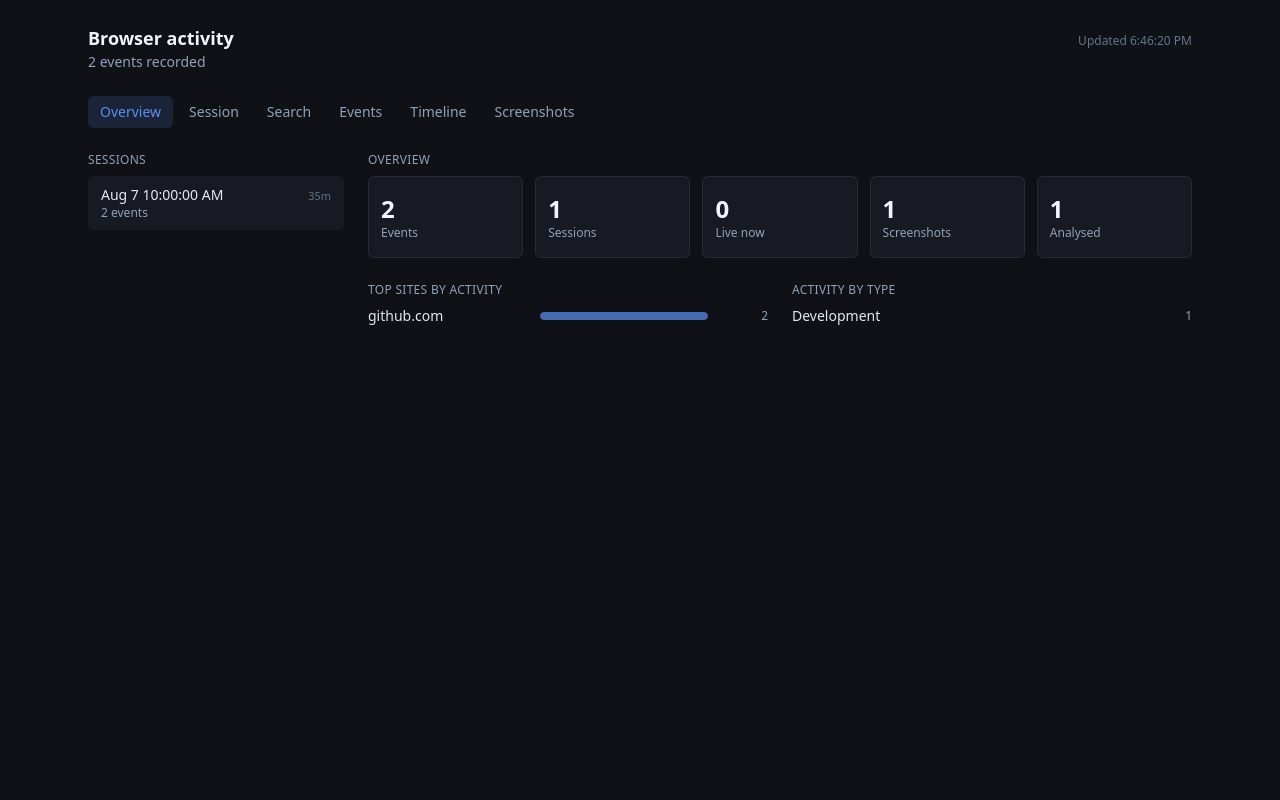
Test: view switching › clears the previous results when the query is emptied
Expected: the heading "Top sites by activity" is shown, [368,281,502,298]
Step 1. Click the button "Search" → (289, 112), box [255,96,323,128]
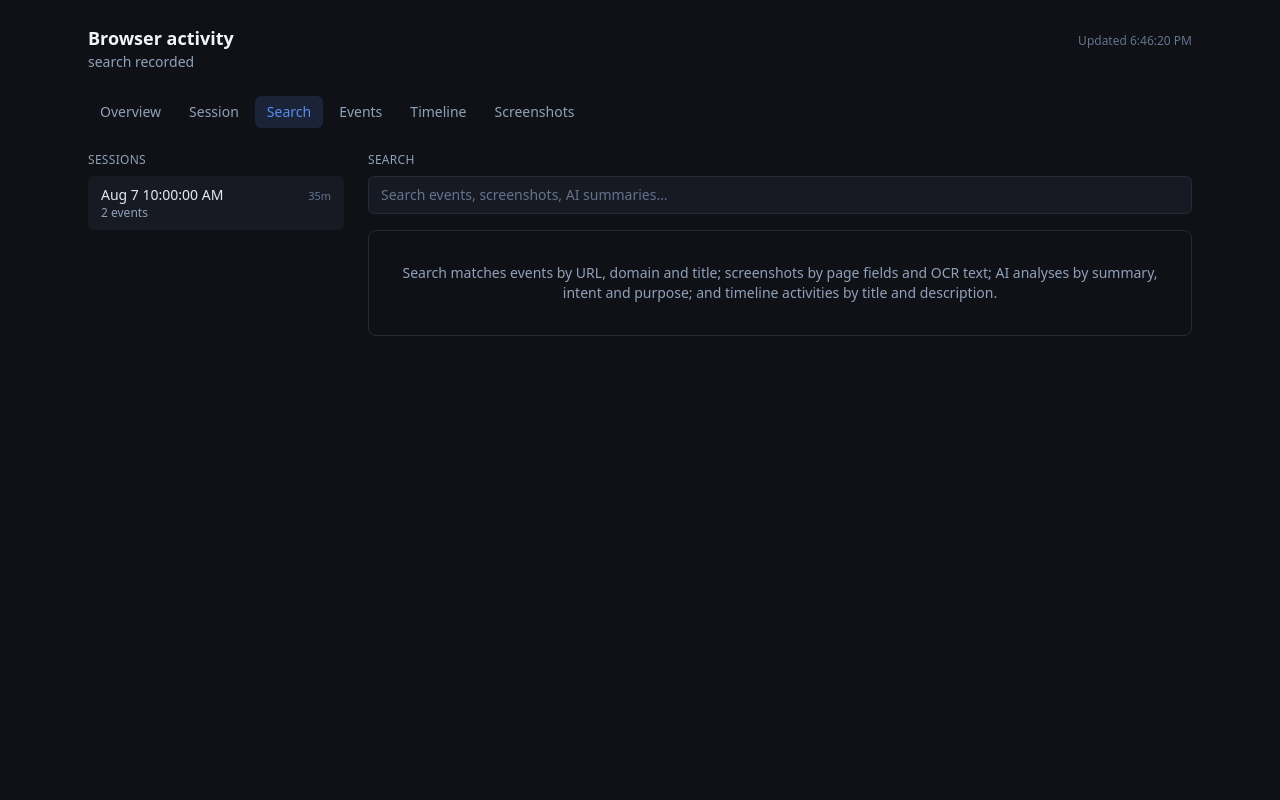
Step 2. Type "router" into the search field named "Search query" → (780, 195), box [368,176,1192,214]
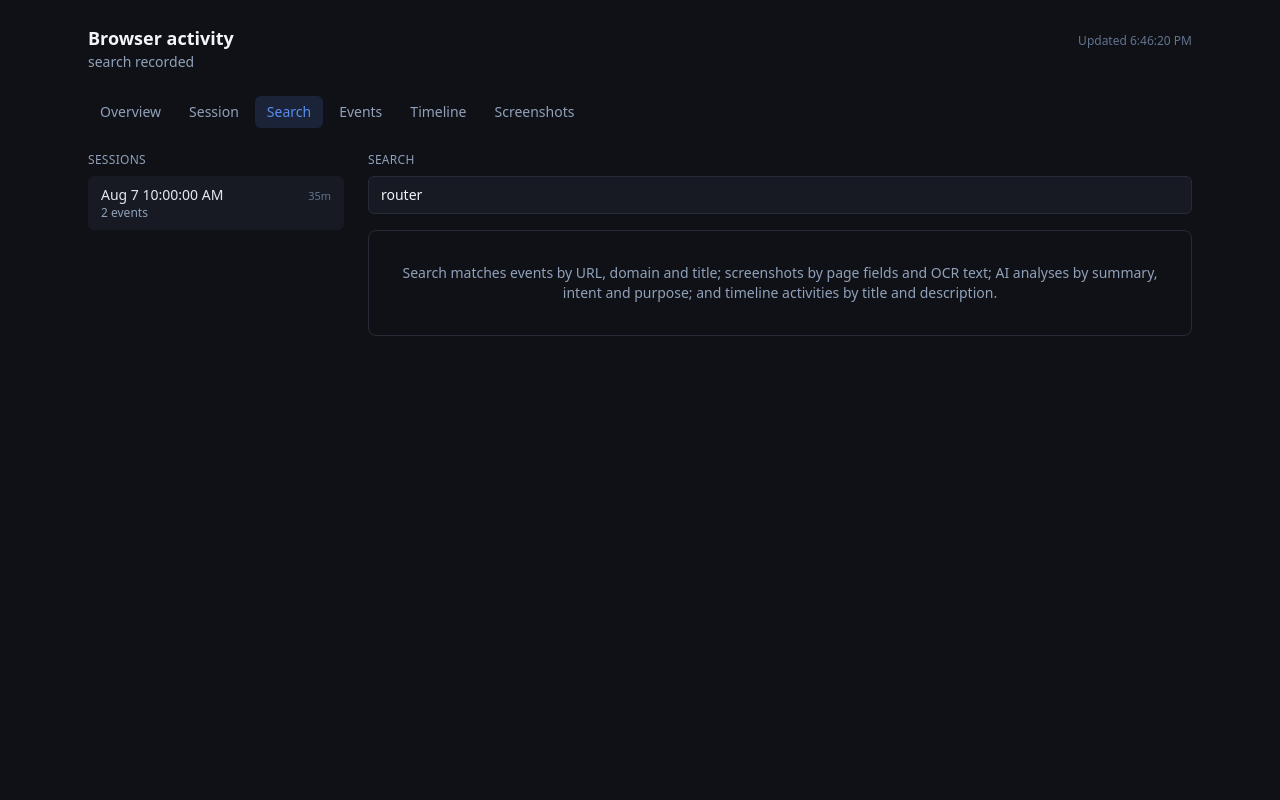
Step 3. Submit the form named "Search query", box [368,176,1192,214]
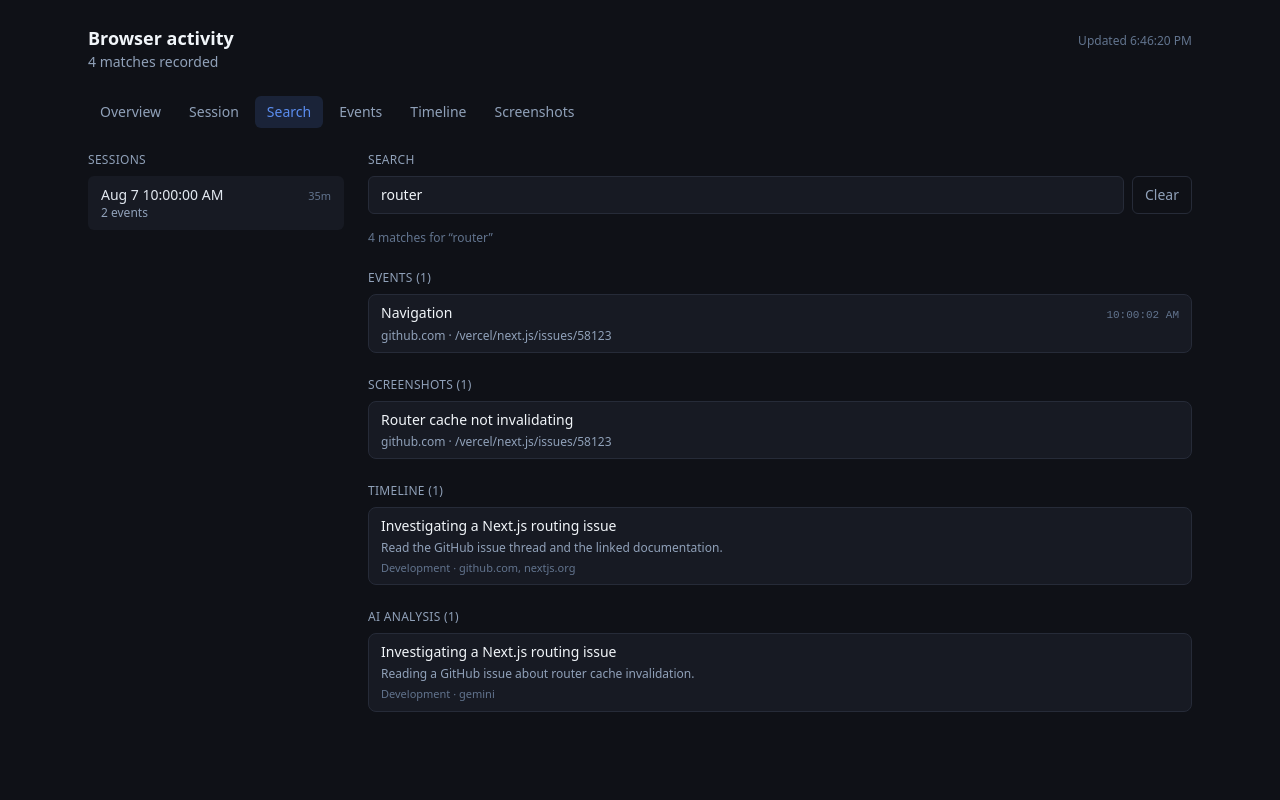
Expected: the heading "Events (1)" is shown, [368,269,431,286]
Step 4. Clear the search field named "Search query" → (746, 195), box [368,176,1124,214]
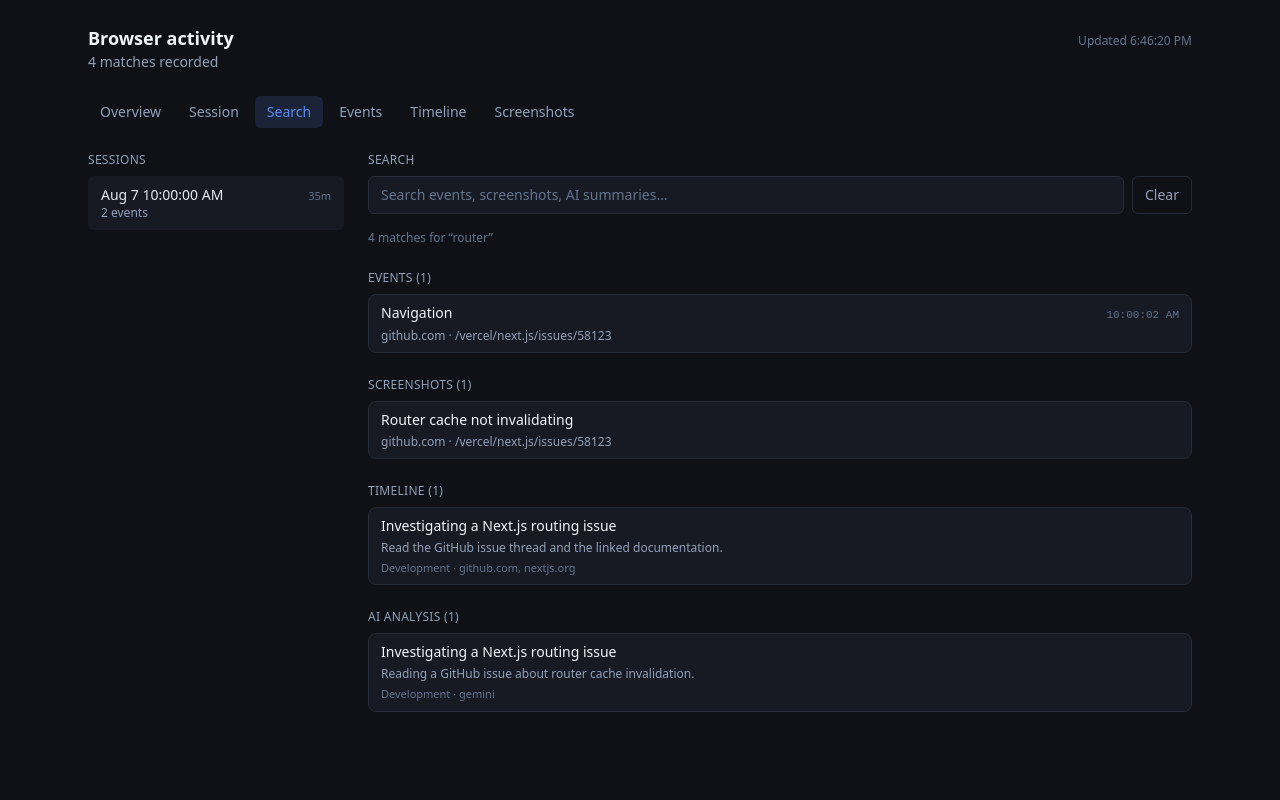
Step 5. Click the button "Clear" → (1162, 195), box [1132,176,1192,214]
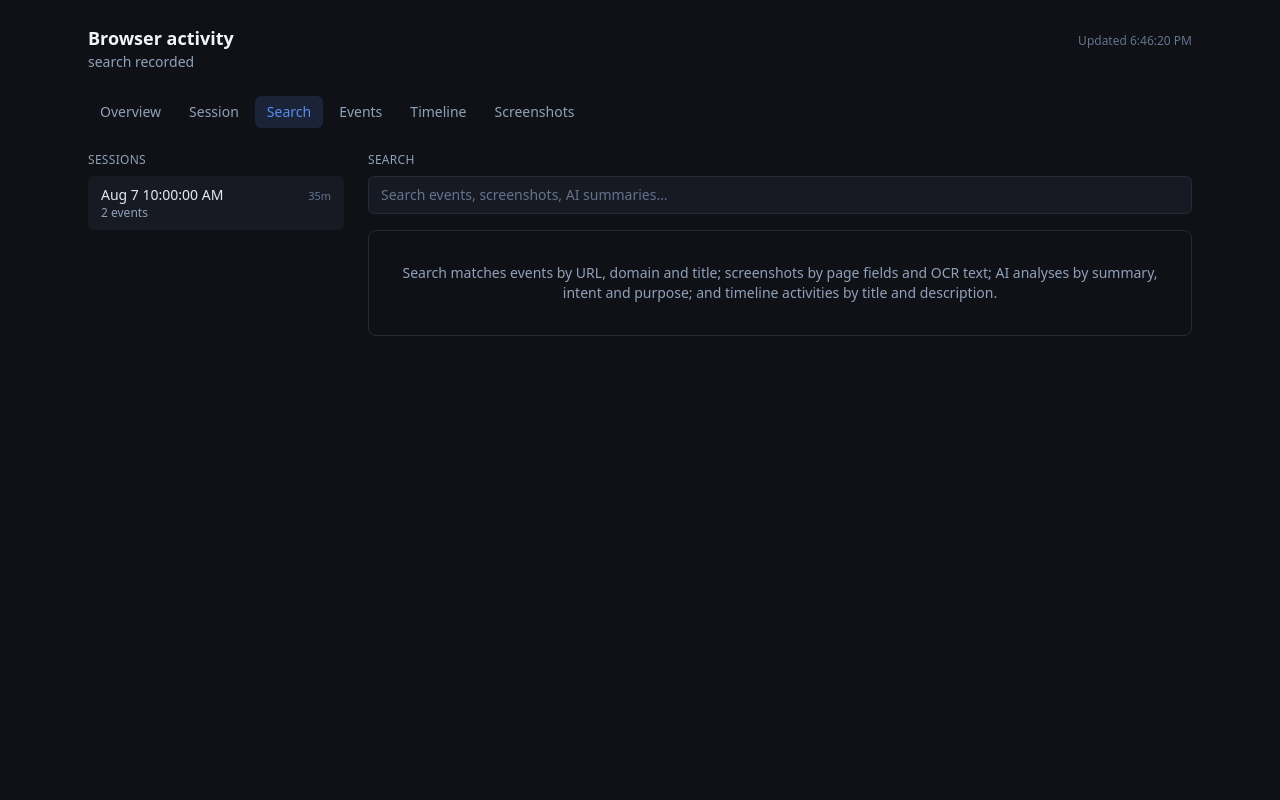
Expected: the heading "Events (1)" is gone
Expected: the text "Search matches events by URL" is shown, [402,263,1158,302]
